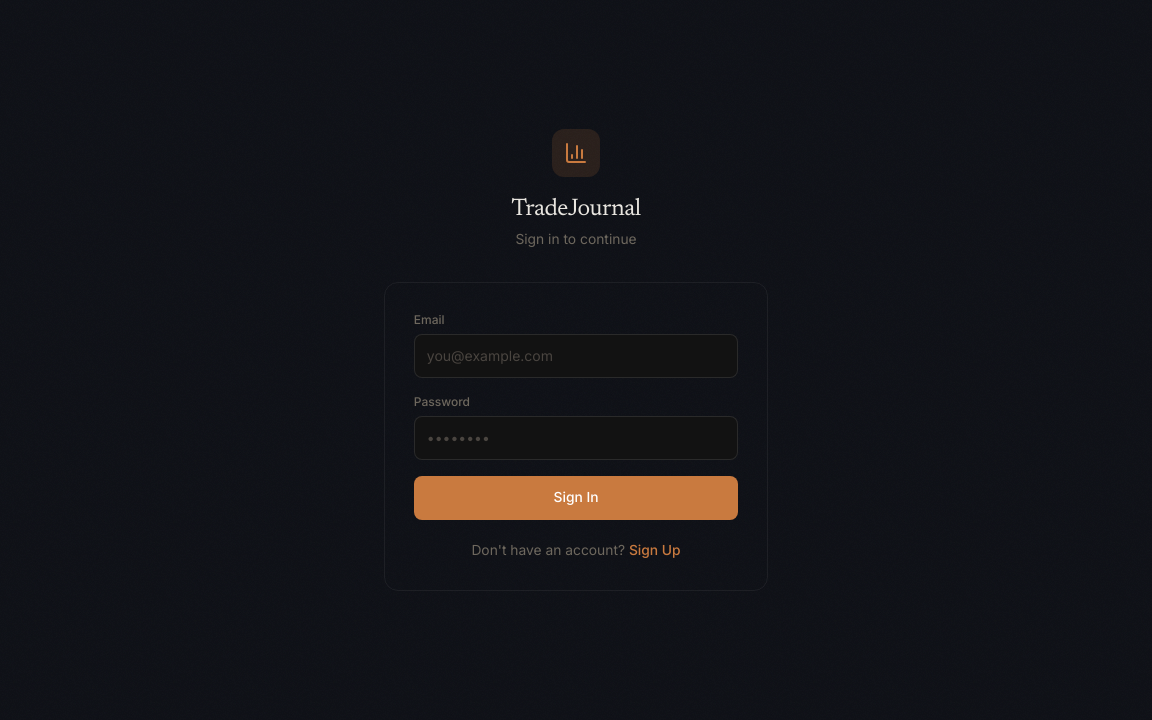
it: LoginPage › switching to signup shows full name and confirm password
The image size is (1152, 720).
Click the button "Sign Up" at {"x": 655, "y": 550}, box 629,540 -> 681,561
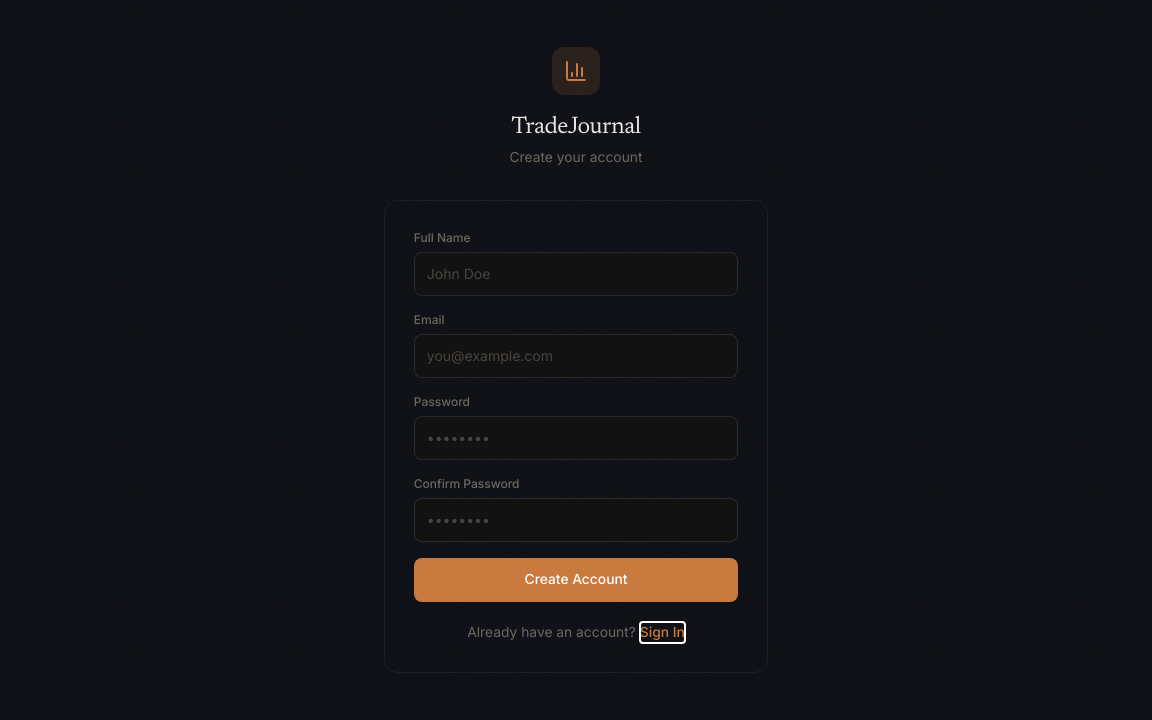
Check: the field with placeholder "John Doe" is shown, box 414,252 -> 738,296
Check: the number of password fields with placeholder "••••••••" is 2, box 414,416 -> 738,460; 414,498 -> 738,542
